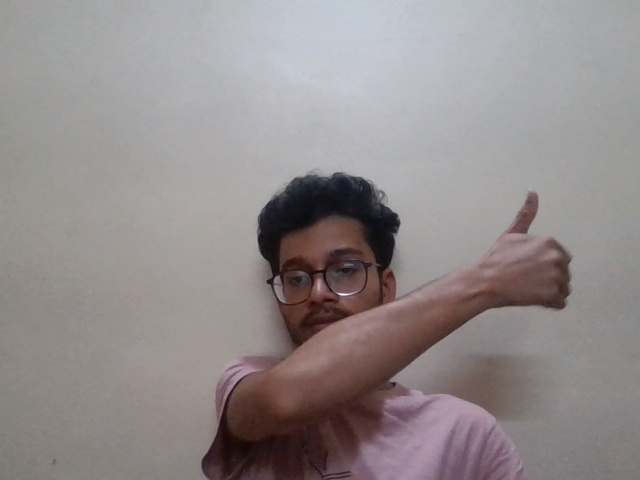yes: (447, 184, 594, 336)
